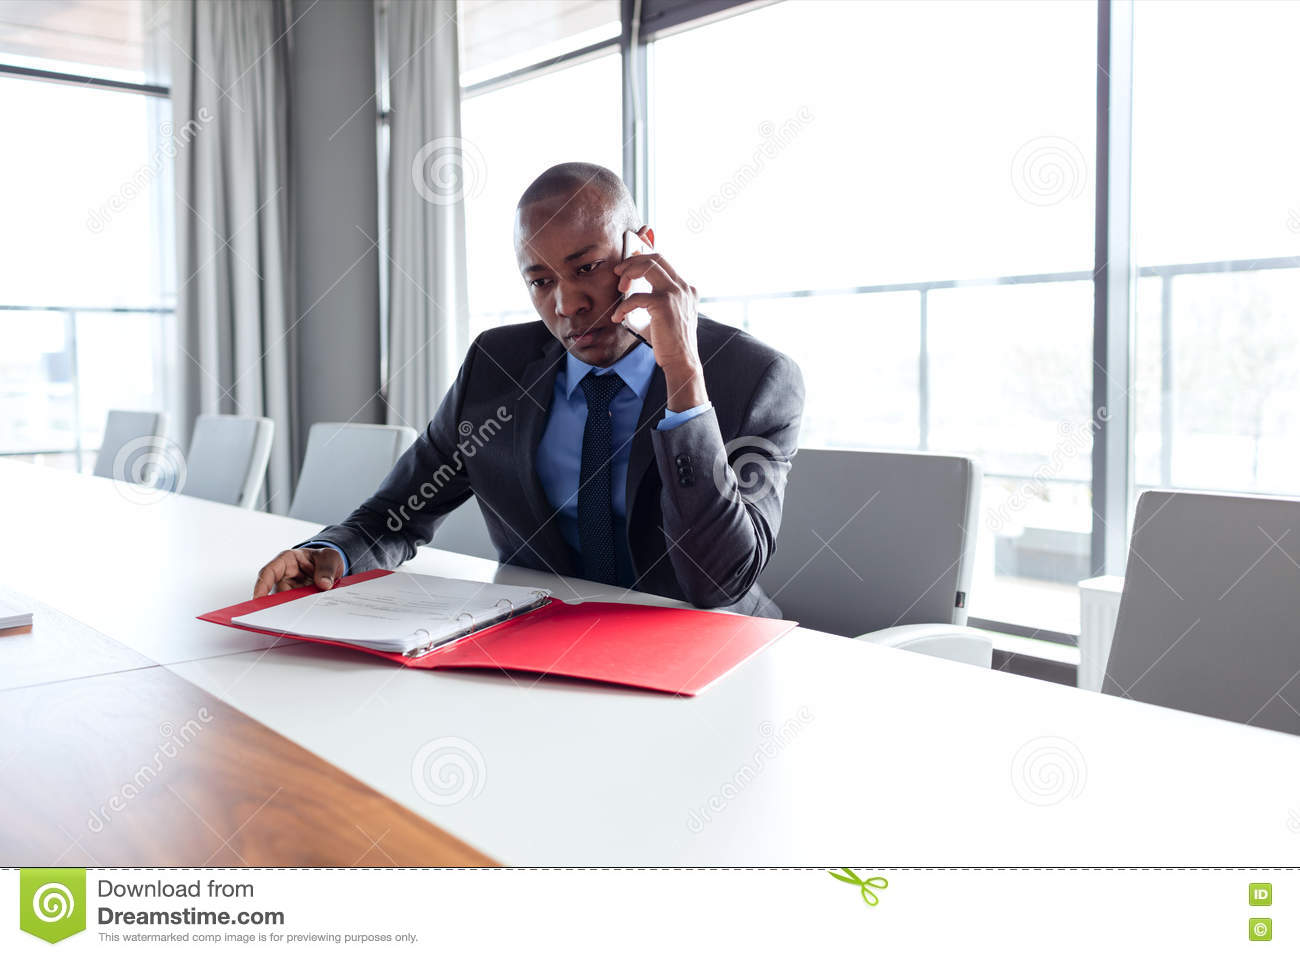phone: (622, 231, 658, 360)
talk: (520, 232, 706, 417)
